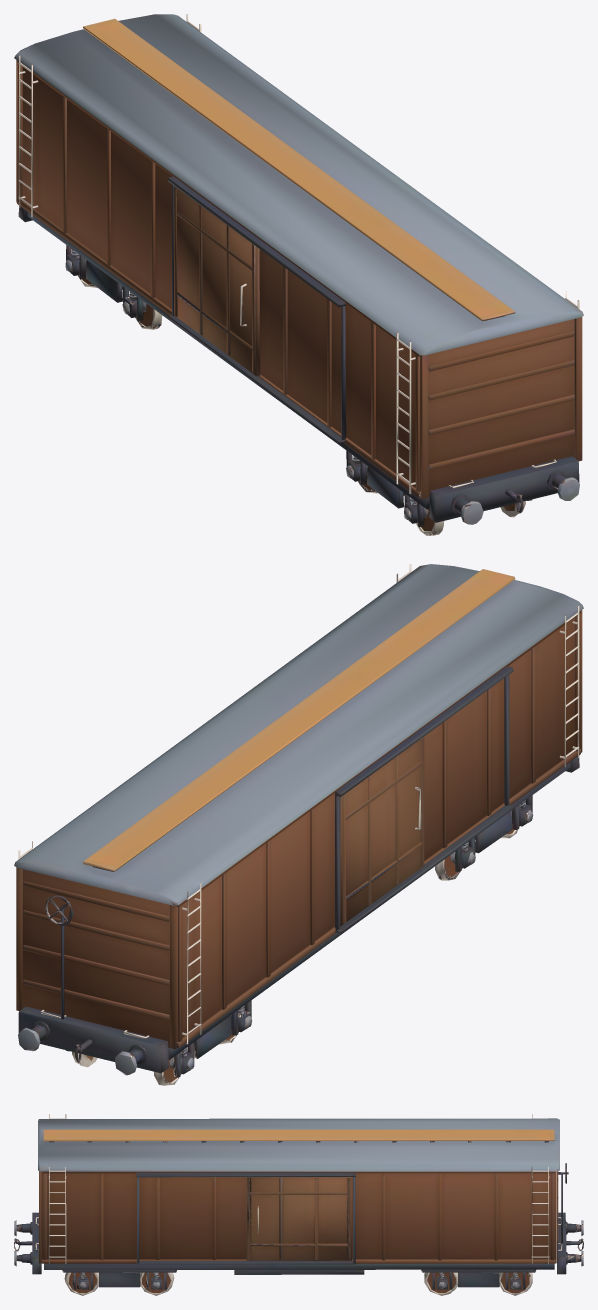
The model's file is boxcar.glb.
The picture shows the model from 3 angles, top to bottom: view 1: azimuth 30°, elevation 25°; view 2: azimuth 150°, elevation 25°; view 3: azimuth 270°, elevation 25°; orthographic projection. The views are drawn at different scales.
Parts seen in each view (by area): view 1: boxcar_body; view 2: boxcar_body; view 3: boxcar_body.
Part boxes in pixels (x1=…): boxcar_body: x1=14, y1=14, x2=583, y2=535; boxcar_body: x1=14, y1=564, x2=583, y2=1085; boxcar_body: x1=14, y1=1114, x2=583, y2=1295.
Size of the model in its own units: 3.26 by 3.99 by 13.97.
1 material, 1 textured.
